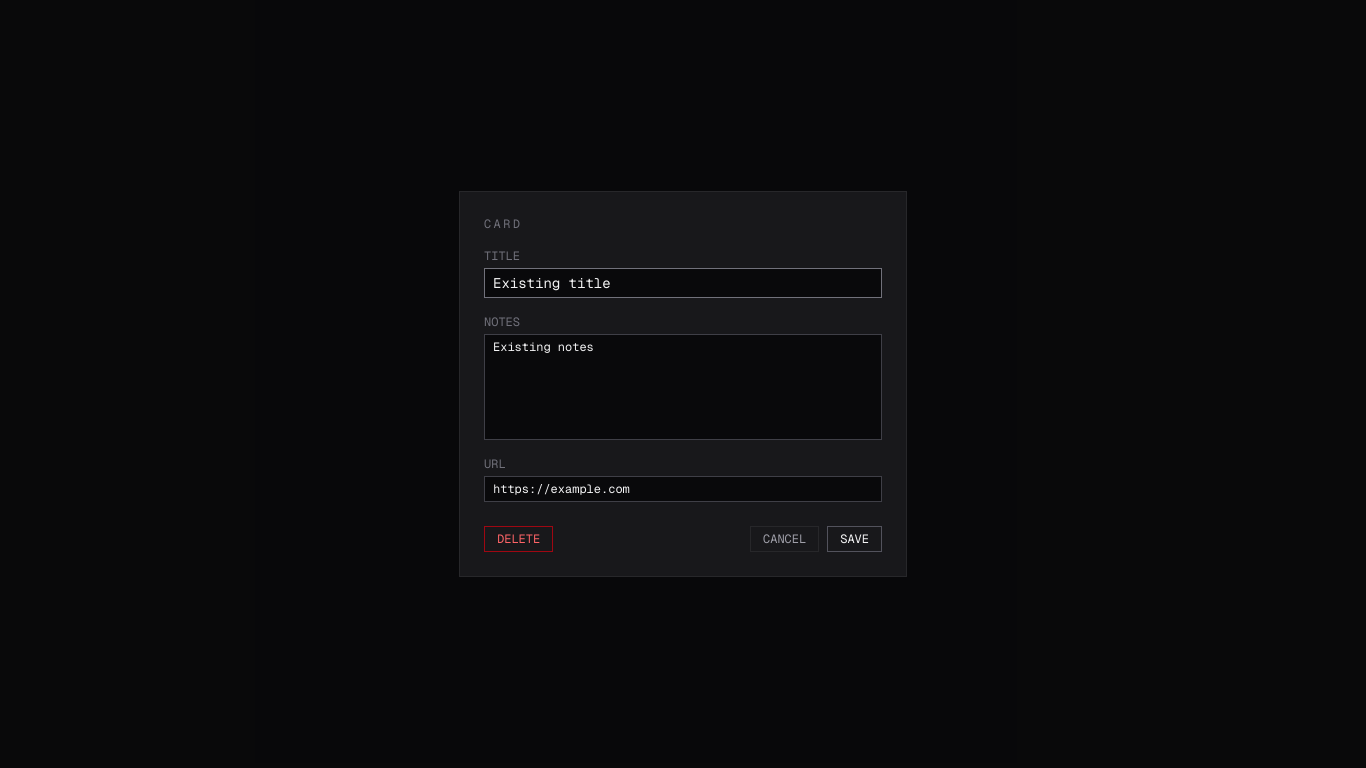
Test: CardDetailModal › shows an error when the API returns an error on save
The image size is (1366, 768).
Replace the text in the field labelled "Title" with "x" at (683, 283), box [484,268,882,298]
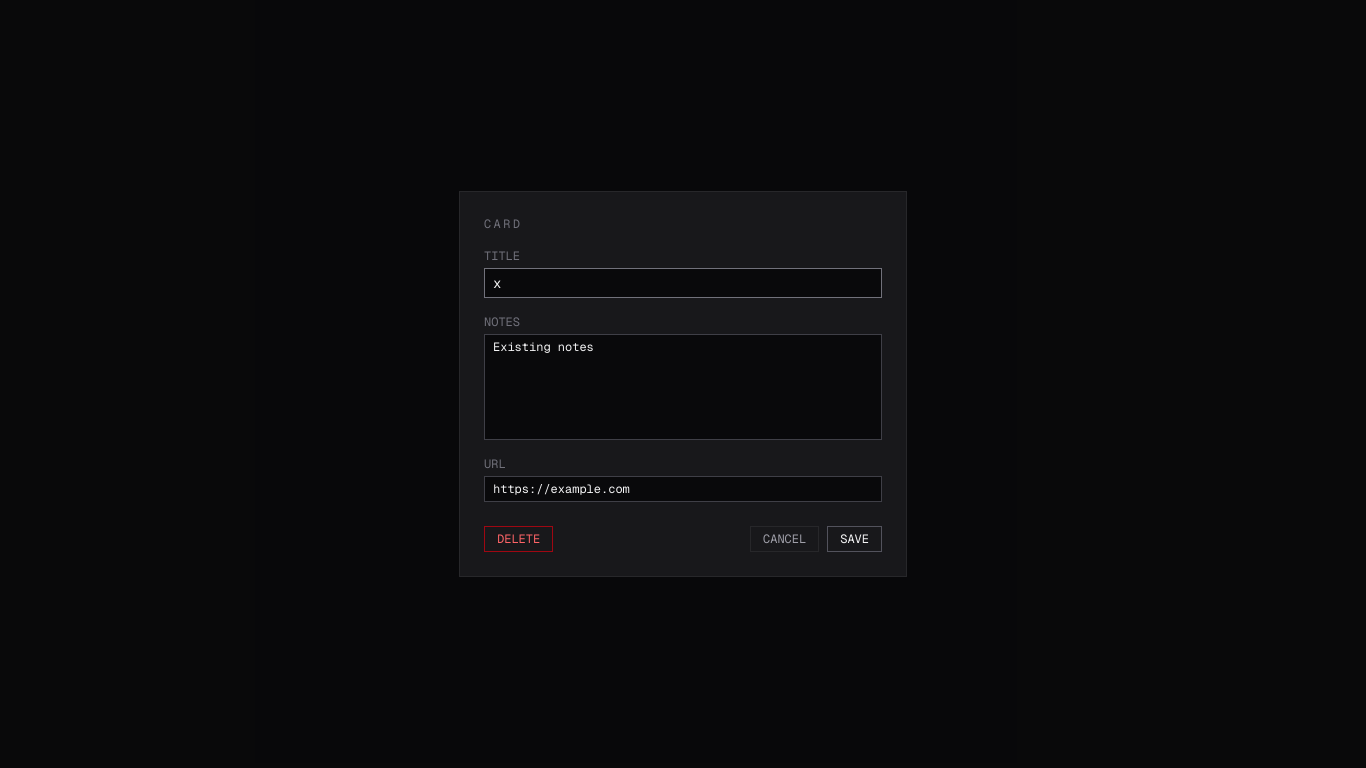
Click the button "Save" at (855, 539), box [827,526,882,552]
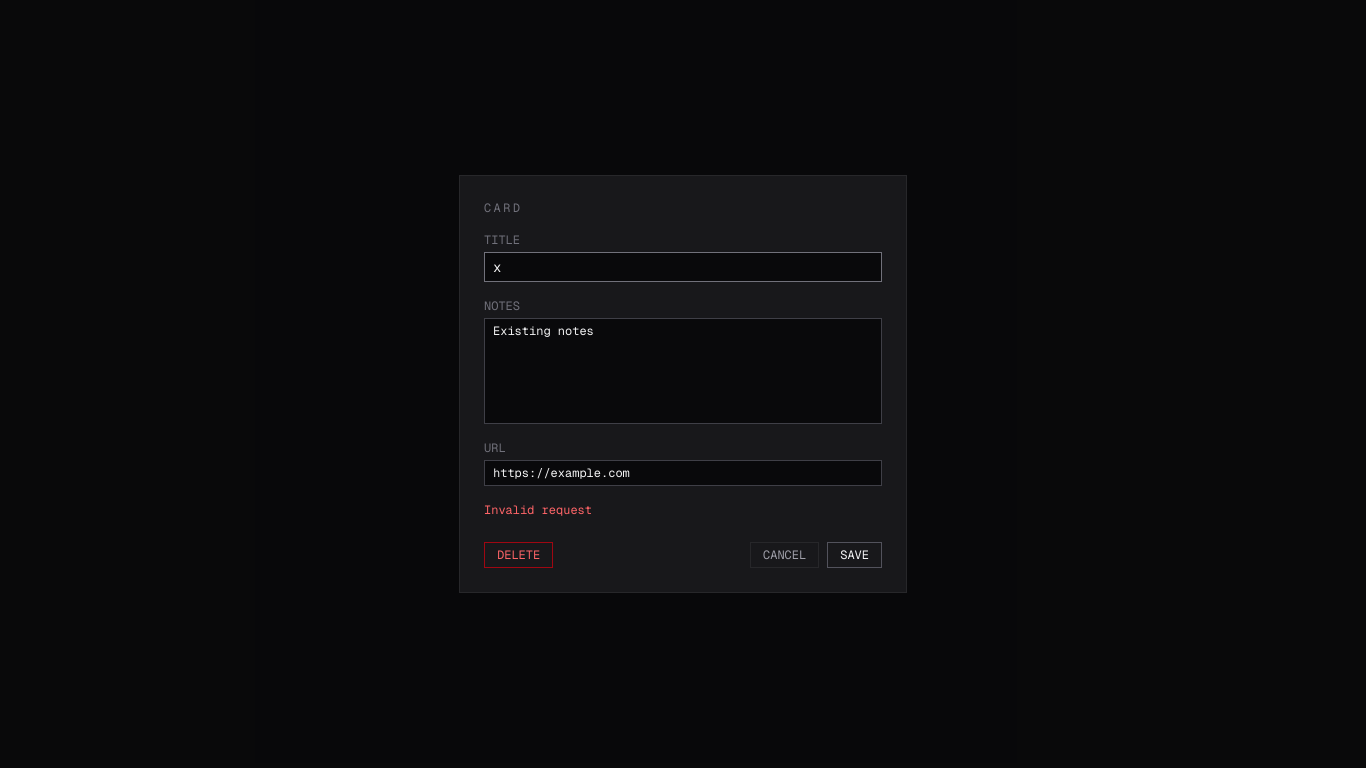
Now the text "Invalid request" is shown, box [484,502,592,518]
